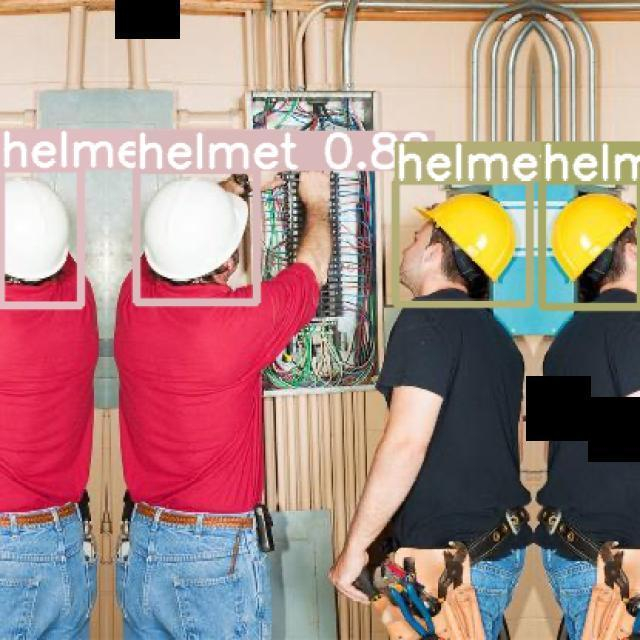white helmet: (143, 178, 249, 284), (5, 179, 73, 287)
yellow helmet: (417, 195, 526, 287), (548, 195, 639, 281)
